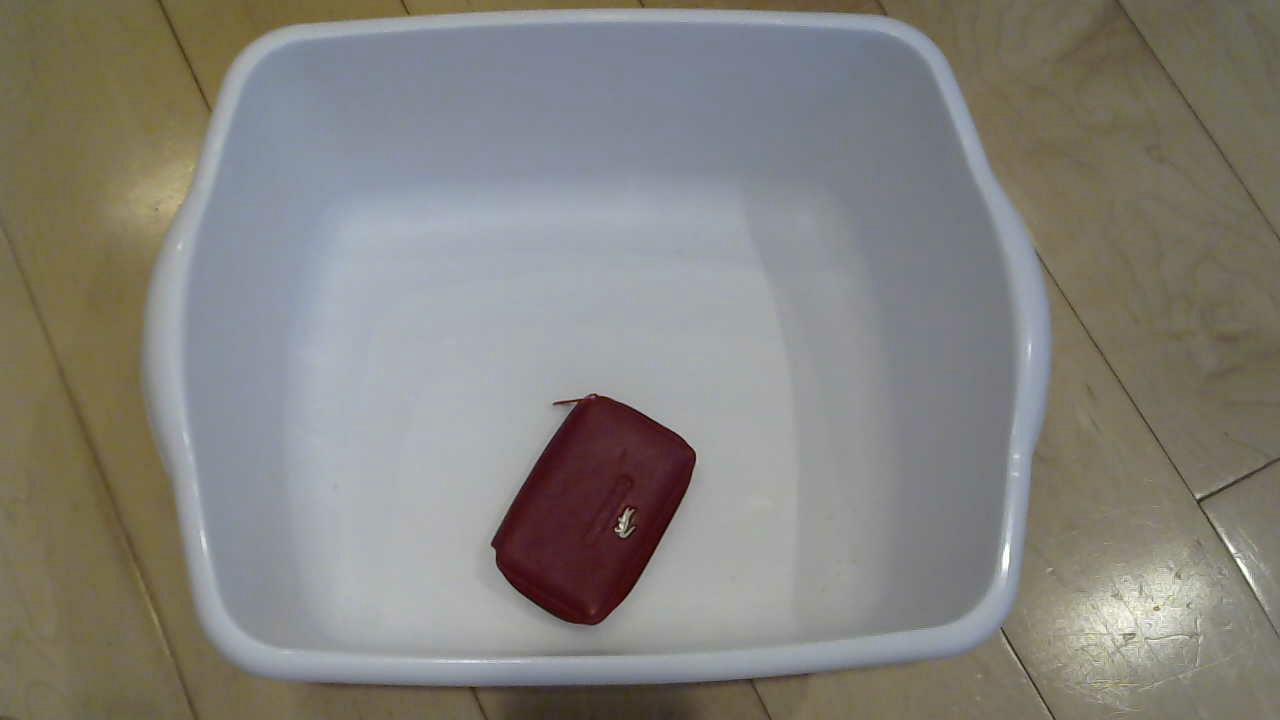wallet: (481, 387, 717, 627)
